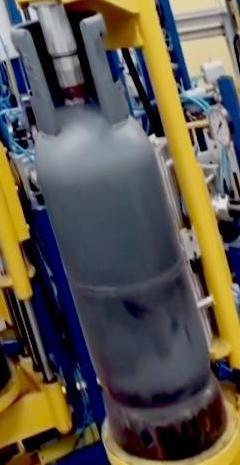cylinder: (1, 1, 240, 465)
